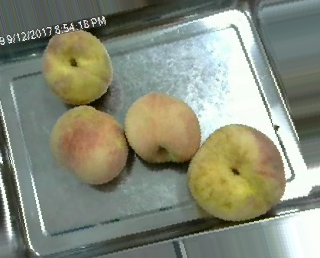Peach: (187, 122, 287, 222), (50, 104, 128, 185), (125, 91, 201, 165), (43, 28, 113, 104)
